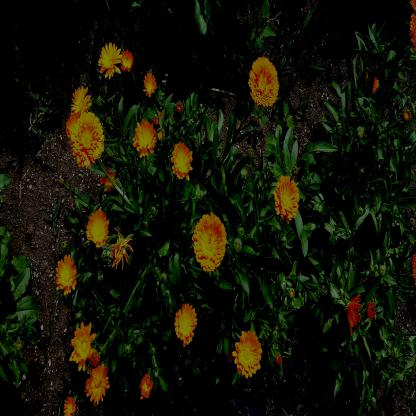marigold: (193, 213, 224, 272), (74, 115, 104, 164), (249, 57, 278, 105), (234, 331, 262, 376), (274, 174, 298, 219), (70, 325, 94, 364), (86, 366, 109, 402), (174, 306, 197, 342), (170, 142, 192, 178), (56, 257, 76, 293), (99, 42, 120, 76), (134, 120, 154, 154), (87, 214, 108, 244), (72, 86, 90, 110), (144, 74, 156, 99), (140, 374, 152, 398), (121, 47, 132, 71), (63, 396, 76, 415)
